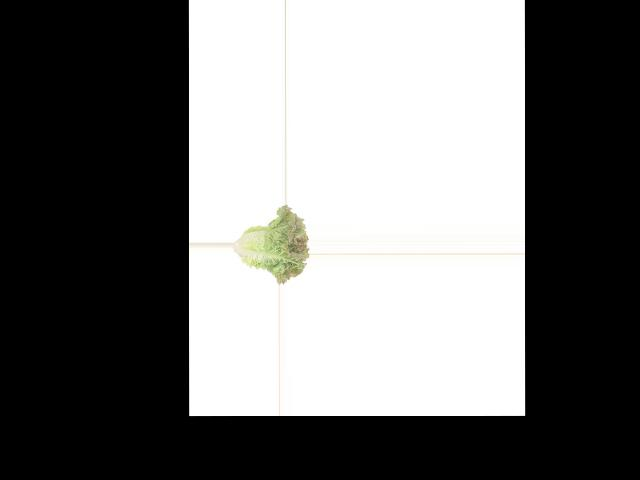lettuce: (232, 205, 308, 283)
